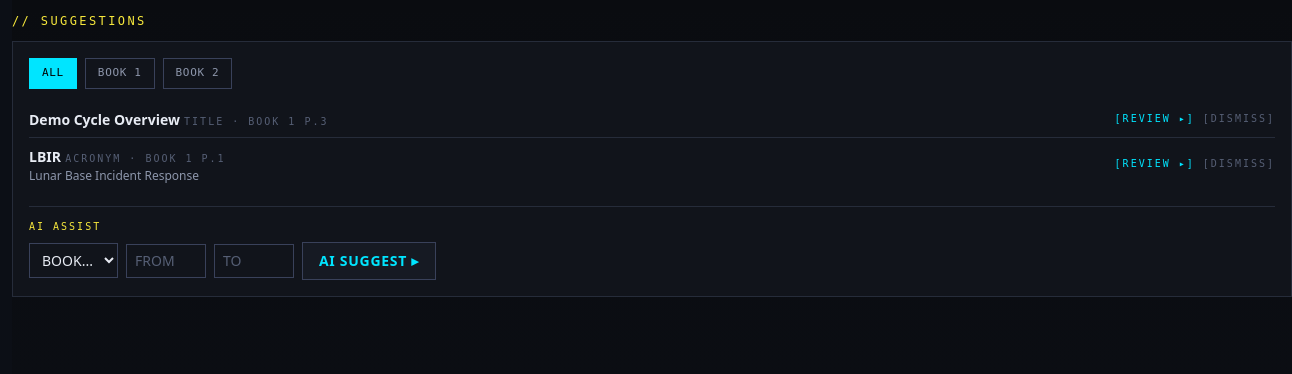
AI assist posts the range and lists proposals for review
Expected: the text "LBIR" is shown, [29,146,61,166]
Select "Book 2" in the dropdown named "ai book": (74, 260) [29,243,118,278]
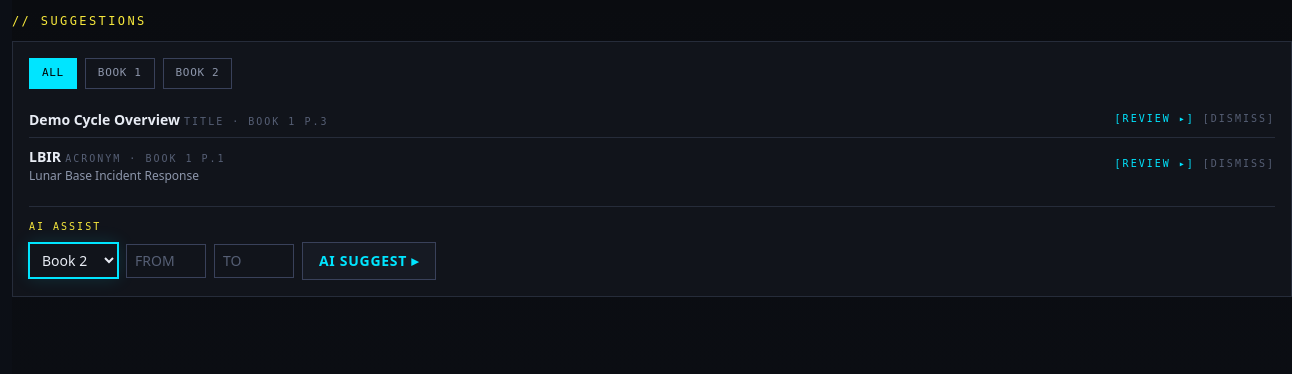
In the field named "first page": (166, 260) [126,244,206,278], type "1"
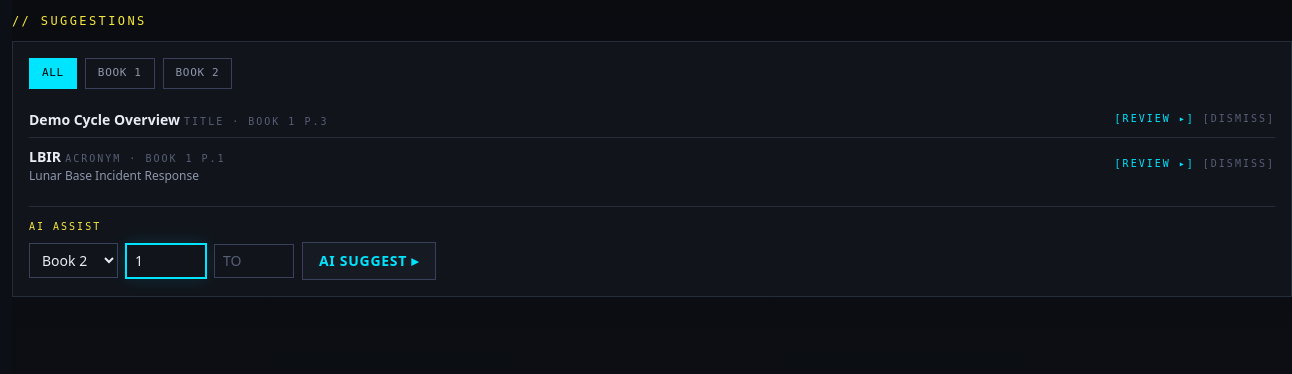
In the field named "last page": (254, 260) [214,244,294,278], type "8"
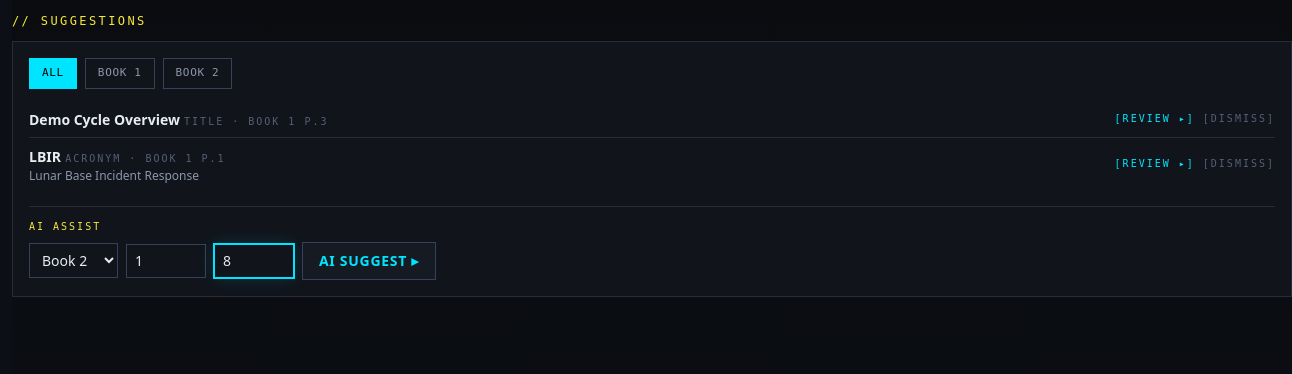
Click the button "AI SUGGEST ▸": (369, 260) [302,242,436,280]
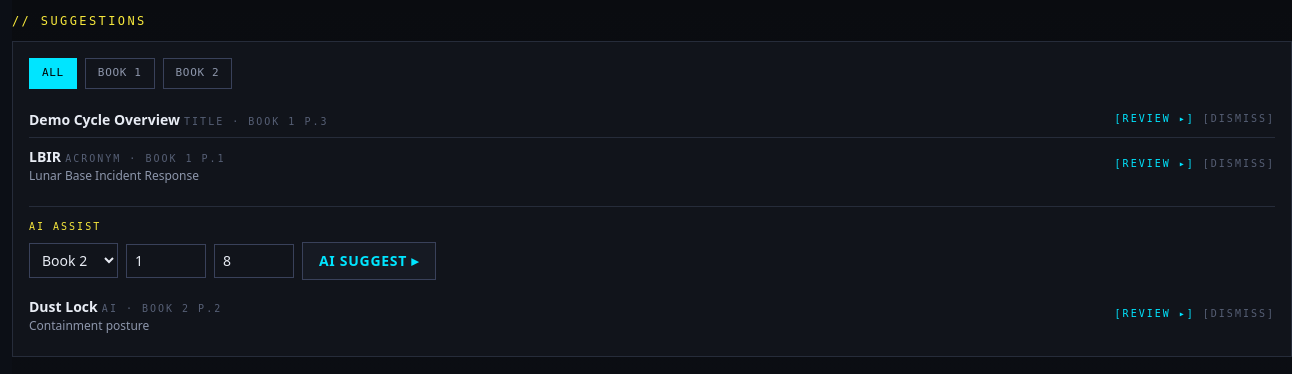
Result: the text "Dust Lock" is shown at [29,296,98,316]
Result: the text "Containment posture" is shown at [29,316,149,334]
